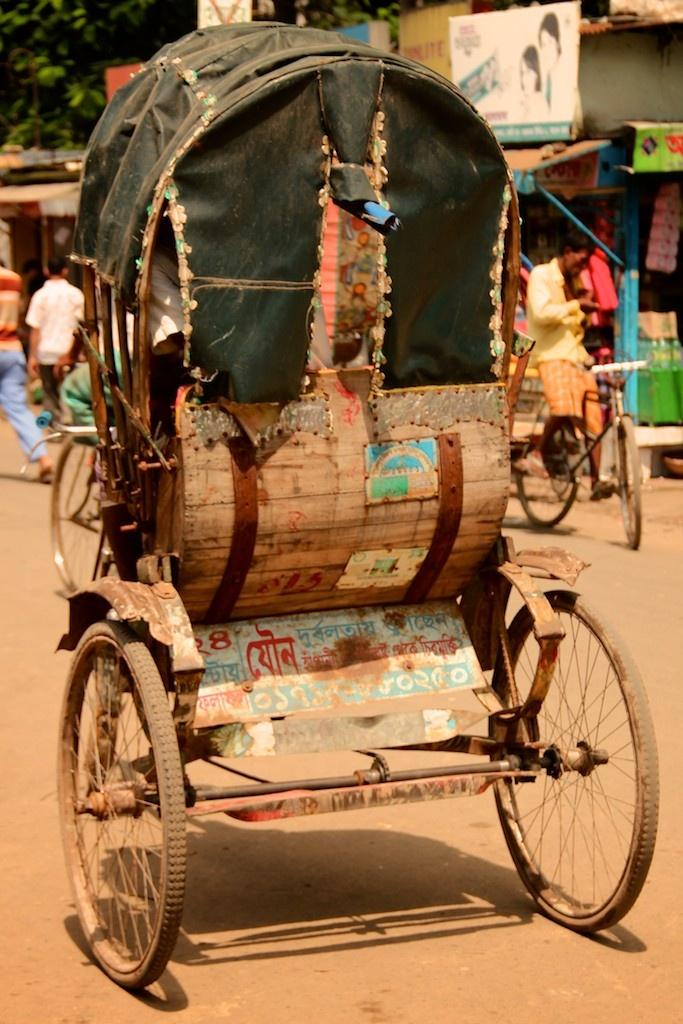Rickshaw: (50, 16, 676, 1002), (512, 361, 641, 549)
